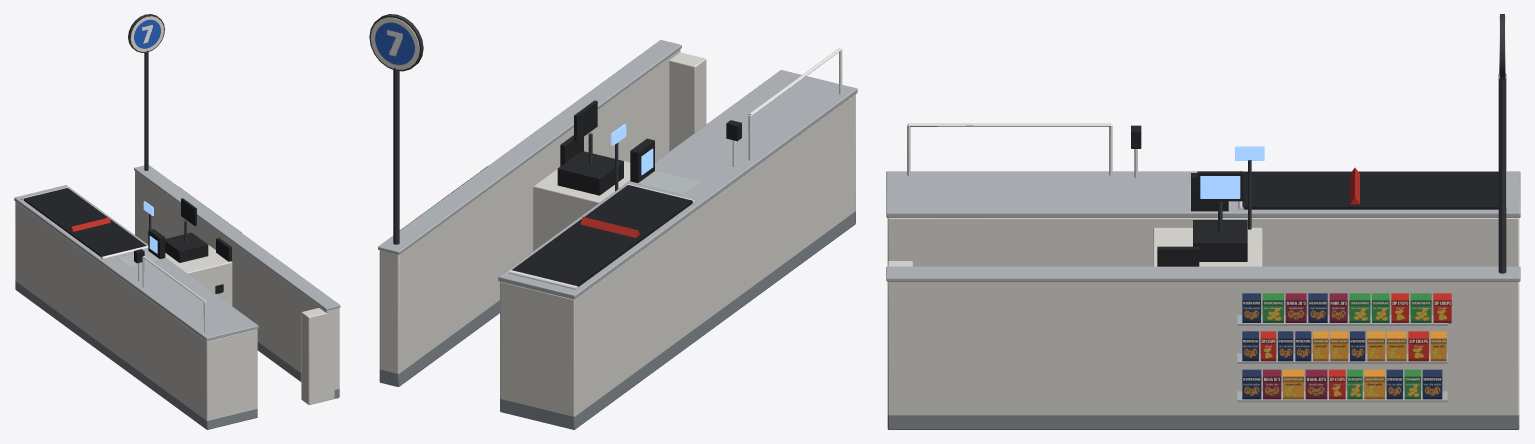
The model's file is checkout_7.glb.
3 renders of one model, left to right at view 1: azimuth 30°, elevation 25°; view 2: azimuth 150°, elevation 25°; view 3: azimuth 270°, elevation 25°, orthographic. The views are drawn at different scales.
Visible parts, largest first — view 1: checkout_7; view 2: checkout_7; view 3: checkout_7.
Part boxes in pixels (x1,y1,x2,y2): checkout_7: [14, 14, 340, 429]; checkout_7: [369, 14, 857, 429]; checkout_7: [886, 14, 1520, 429].
Bounding box in the file's own units: 6.53 × 10.7 × 15.06.
12 materials, 2 textured.
